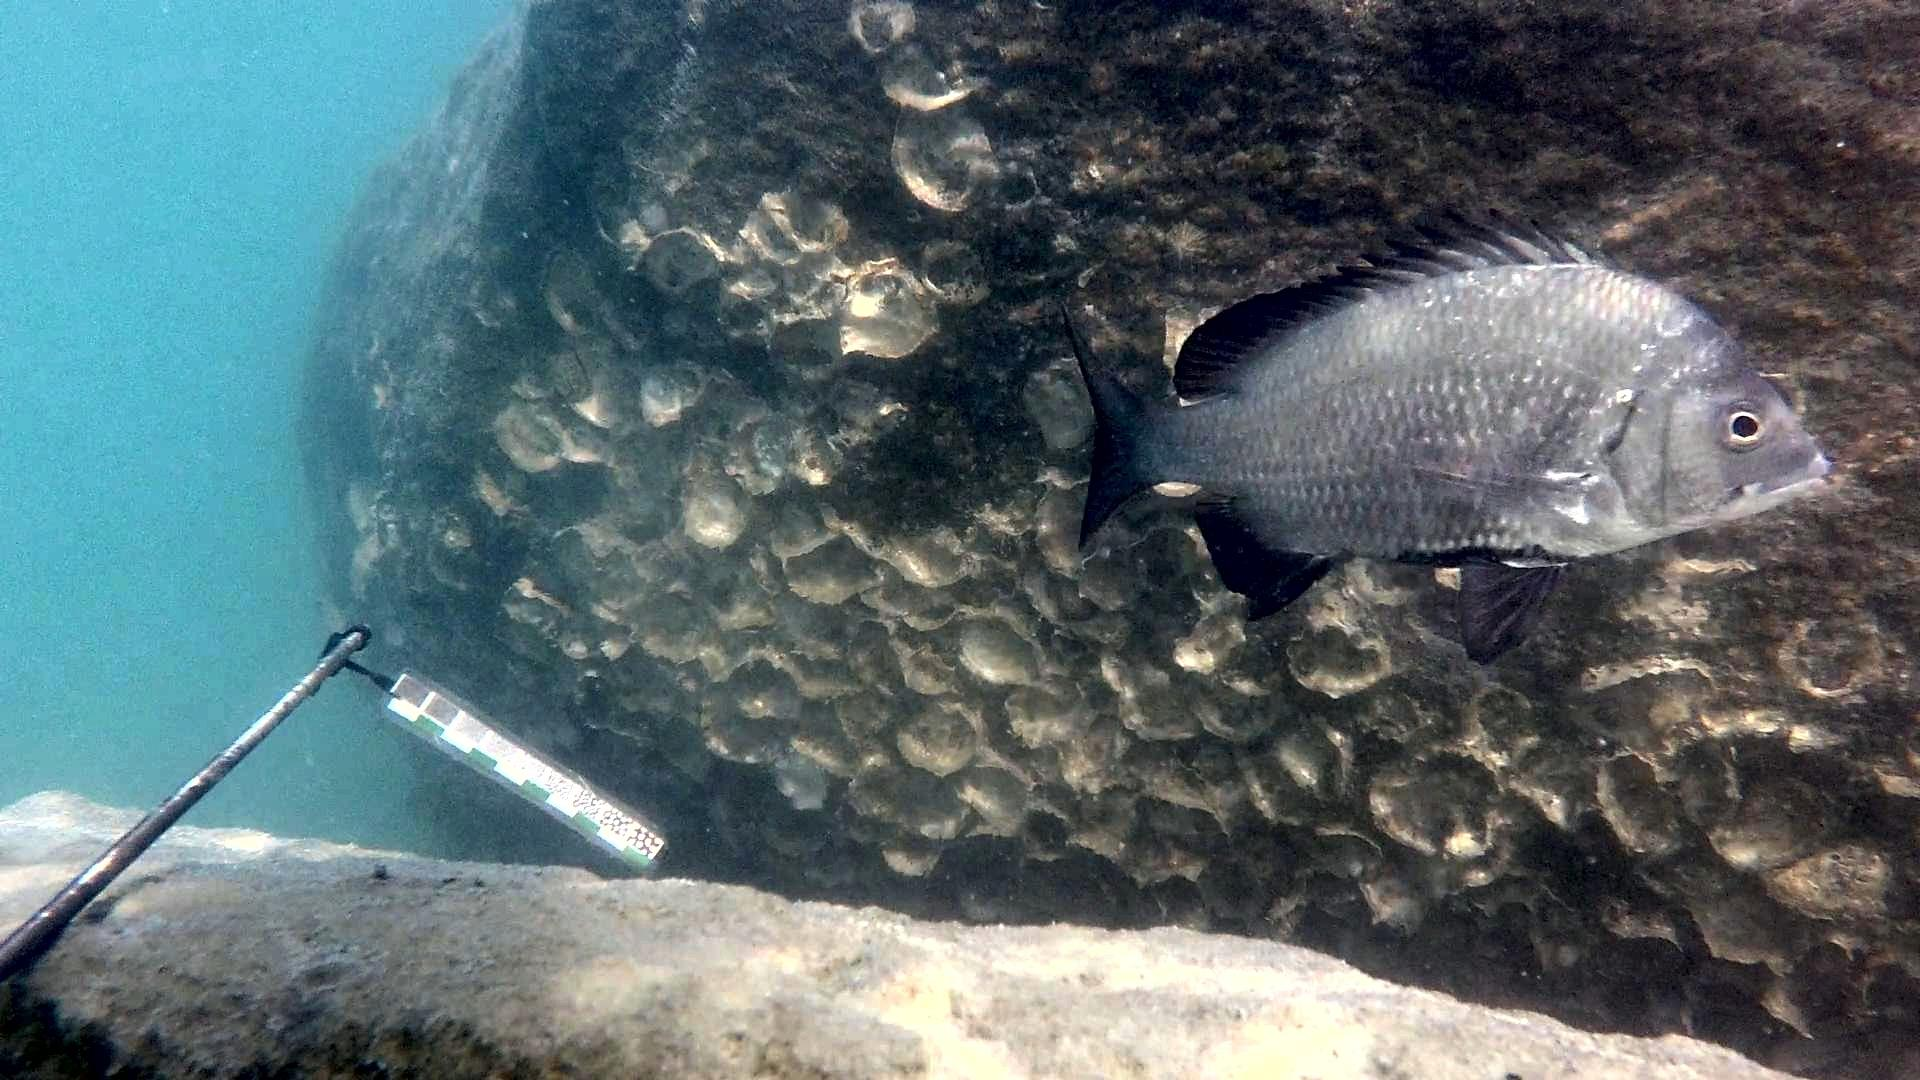acanthopagrus palmaris: (1041, 209, 1849, 668)
